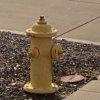a fire hydrant: (26, 17, 62, 95)
